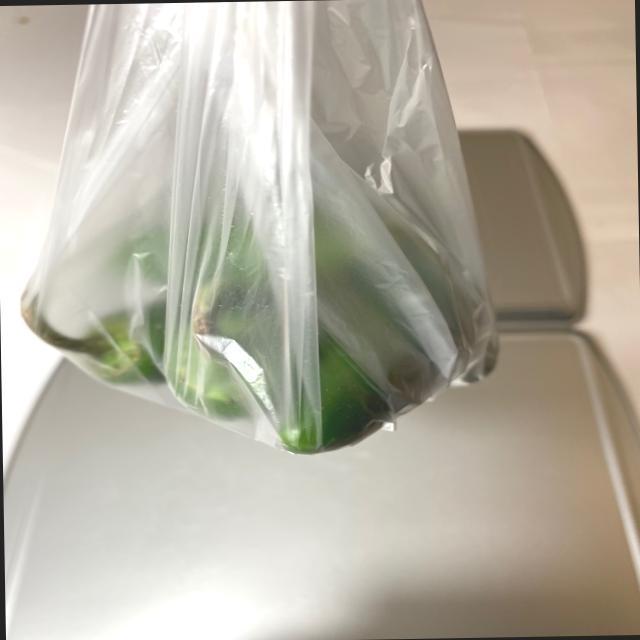chilli: (21, 166, 522, 462)
